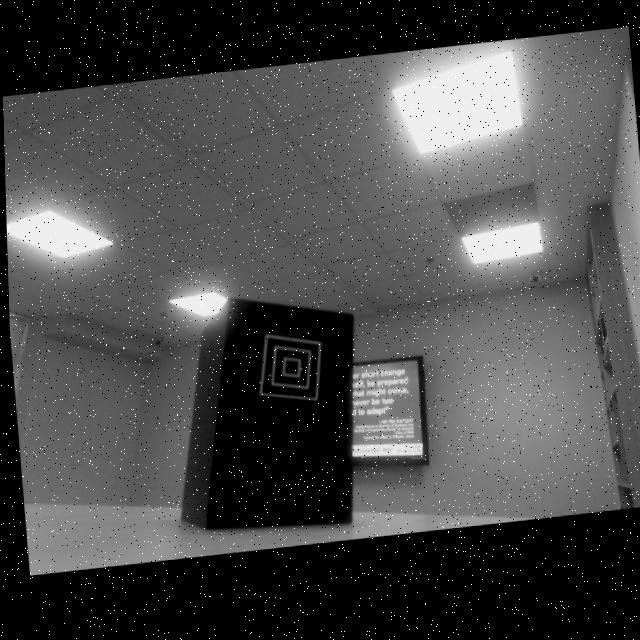BULLSEYE: (257, 337, 320, 406)
